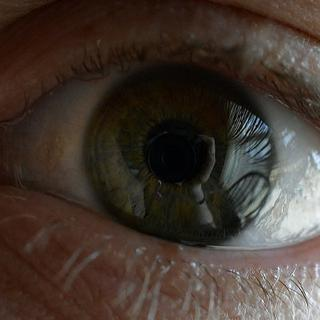pupil: (144, 121, 208, 184)
